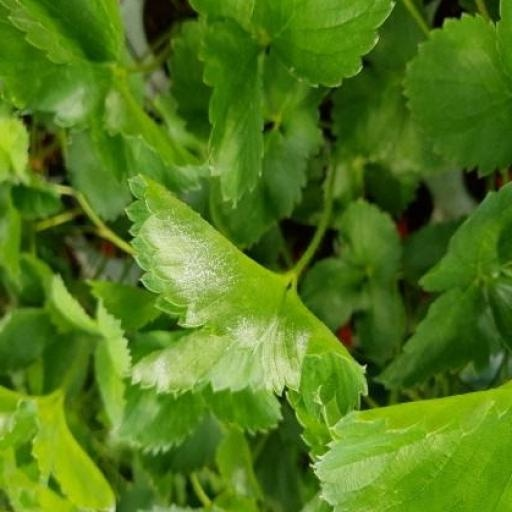Powdery Mildew Leaf: (218, 156, 386, 338), (228, 75, 384, 184), (144, 73, 251, 231)
